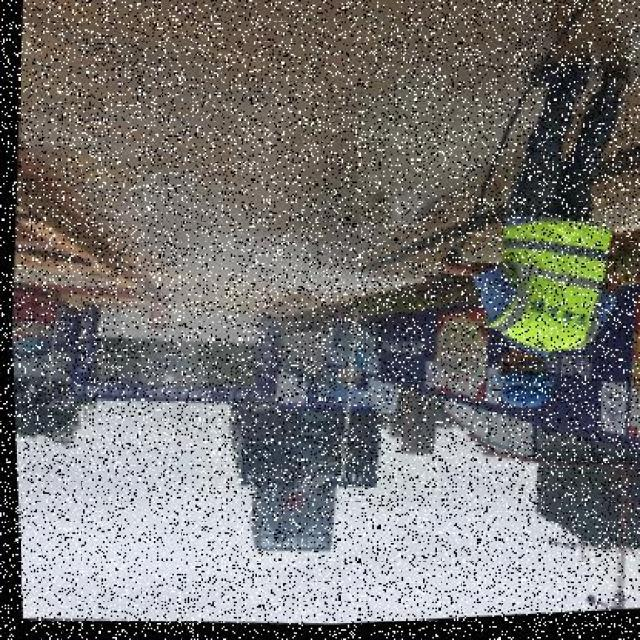helmet: (472, 366, 560, 414)
vest: (480, 209, 610, 368)
